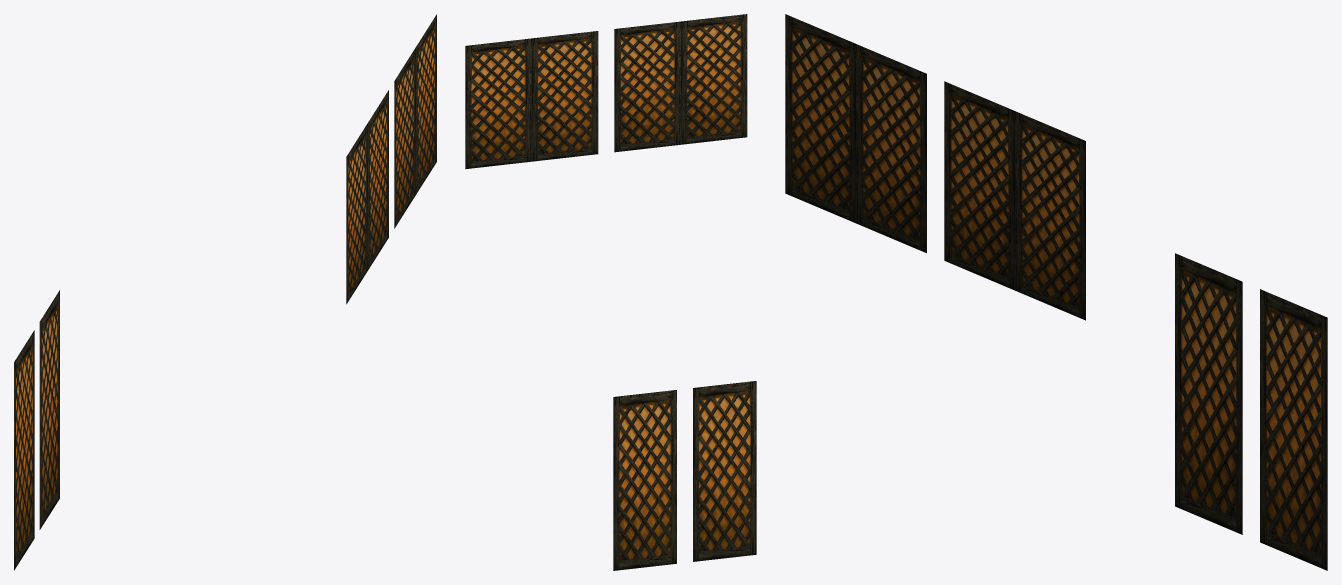
The model's file is LAKETOWN_EXTERIOR_PS_LT_WINDOWS1900.fbx.
3 views of the same model, side by side, from view 1: azimuth 30°, elevation 25°; view 2: azimuth 150°, elevation 25°; view 3: azimuth 270°, elevation 25° (orthographic). The views are drawn at different scales.
Visible parts, largest first — view 1: LAKETOWN_EXTERIOR_PS_LT_WINDOWS1900; view 2: LAKETOWN_EXTERIOR_PS_LT_WINDOWS1900; view 3: LAKETOWN_EXTERIOR_PS_LT_WINDOWS1900.
Part boxes in pixels (x1,y1,x2,y2): LAKETOWN_EXTERIOR_PS_LT_WINDOWS1900: [14, 14, 436, 570]; LAKETOWN_EXTERIOR_PS_LT_WINDOWS1900: [465, 14, 756, 570]; LAKETOWN_EXTERIOR_PS_LT_WINDOWS1900: [785, 14, 1327, 570].
Bounding box in the file's own units: 40364 × 48880 × 40438.
Materials: 1 (1 with a texture image).
